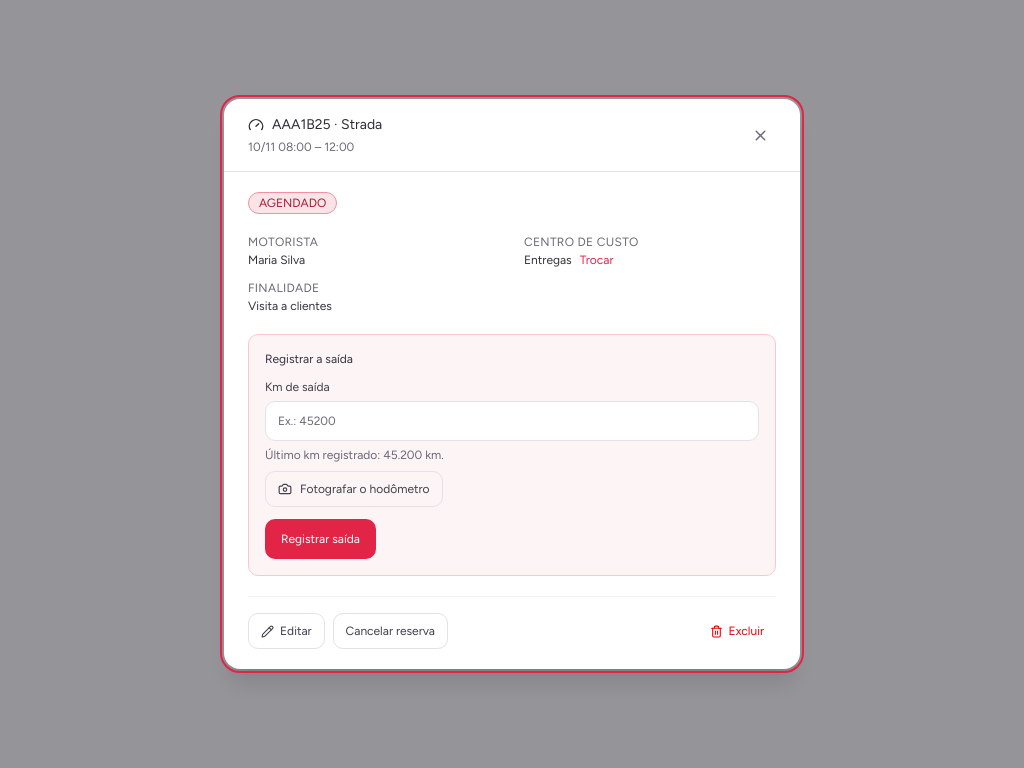
Scenario: UsoDetalheModal › não envia km inválido e avisa
Type "abc" into the field labelled "Km de saída" at {"x": 512, "y": 421}, box [265,401,759,441]
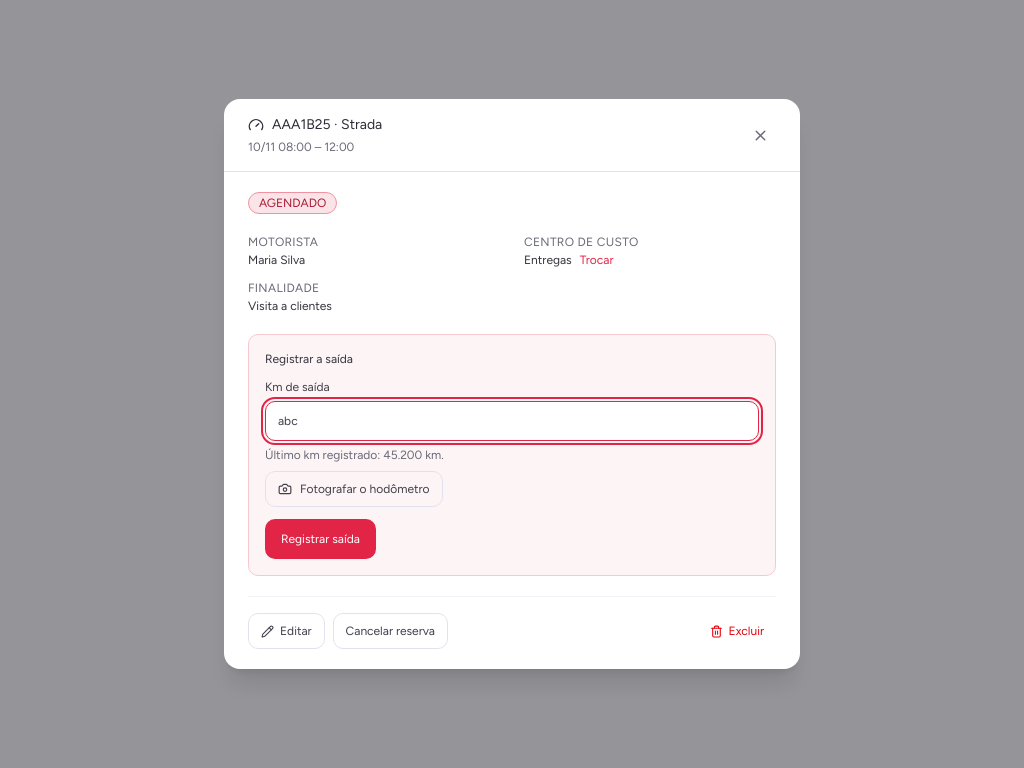
Click the button "Registrar saída" at {"x": 320, "y": 539}, box [265,519,376,559]
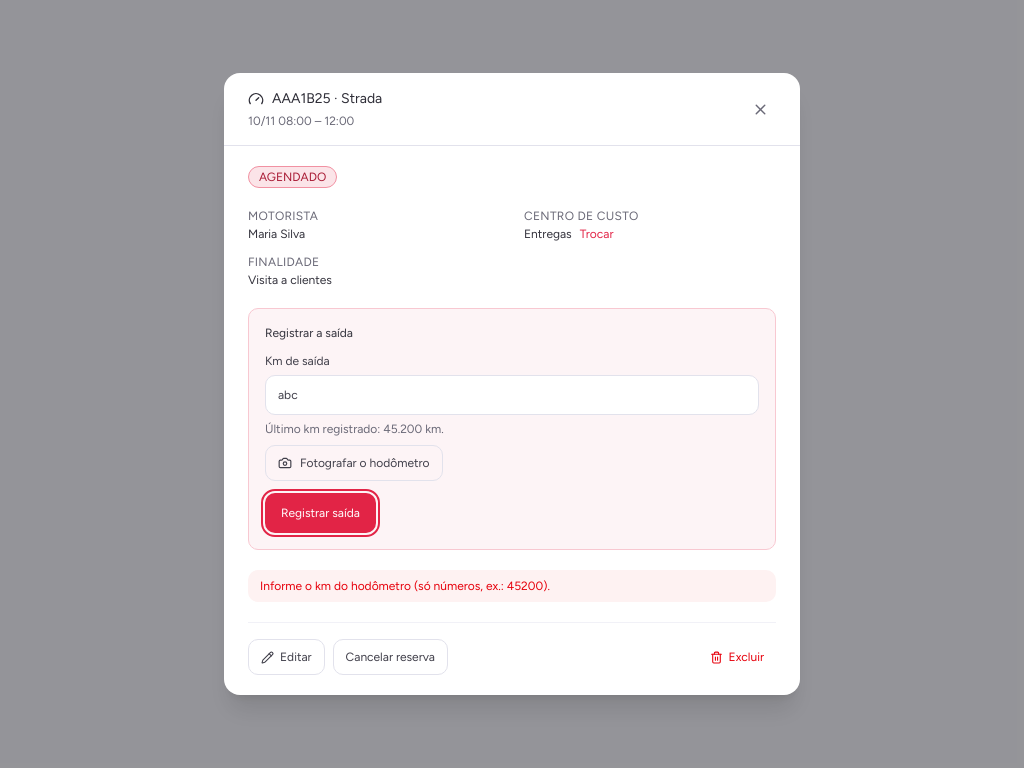
expect the message shows "Informe o km do hodômetro": met, box [260,579,550,593]
